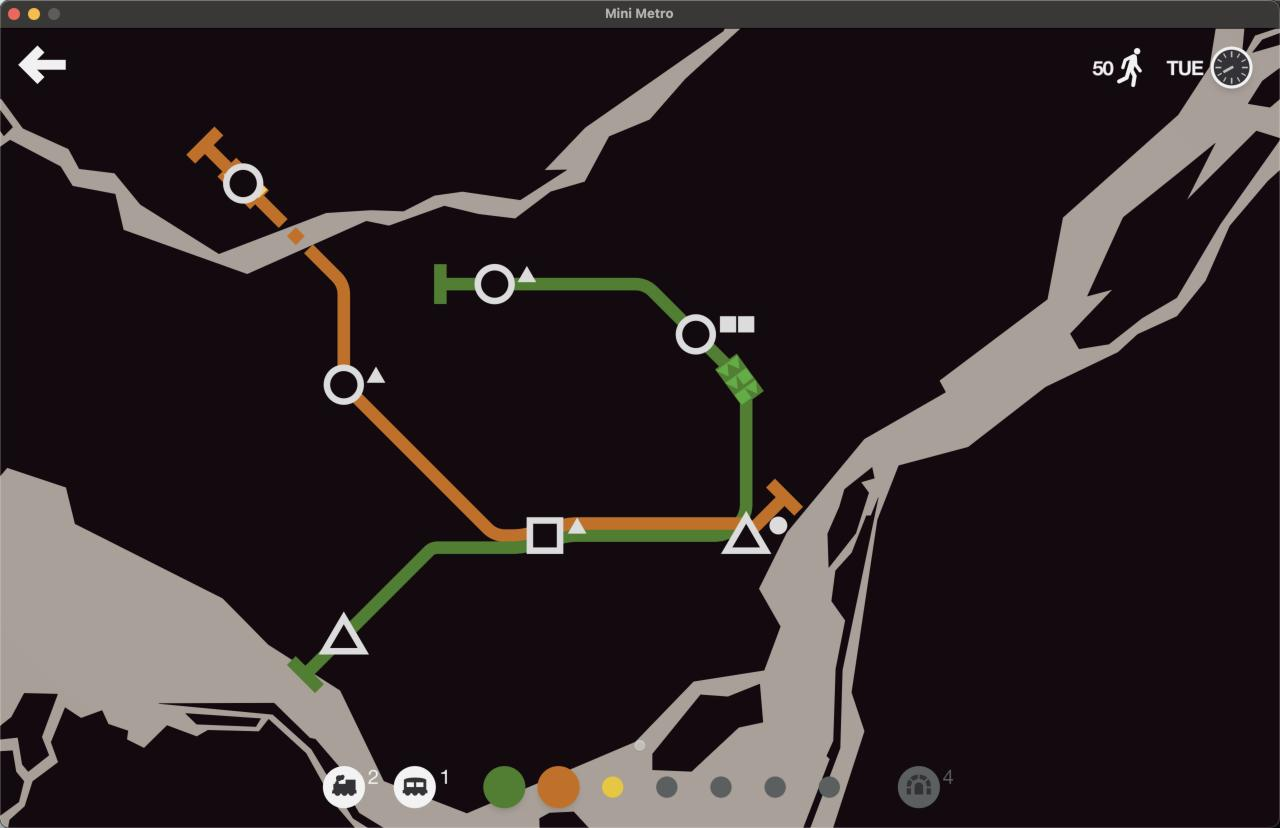CIRCLE: (220, 161, 266, 205), (322, 362, 366, 406), (675, 313, 718, 356), (474, 262, 516, 305)
SQUARE: (526, 516, 563, 554)
TRIANGLE: (318, 611, 372, 657), (721, 507, 771, 555)
